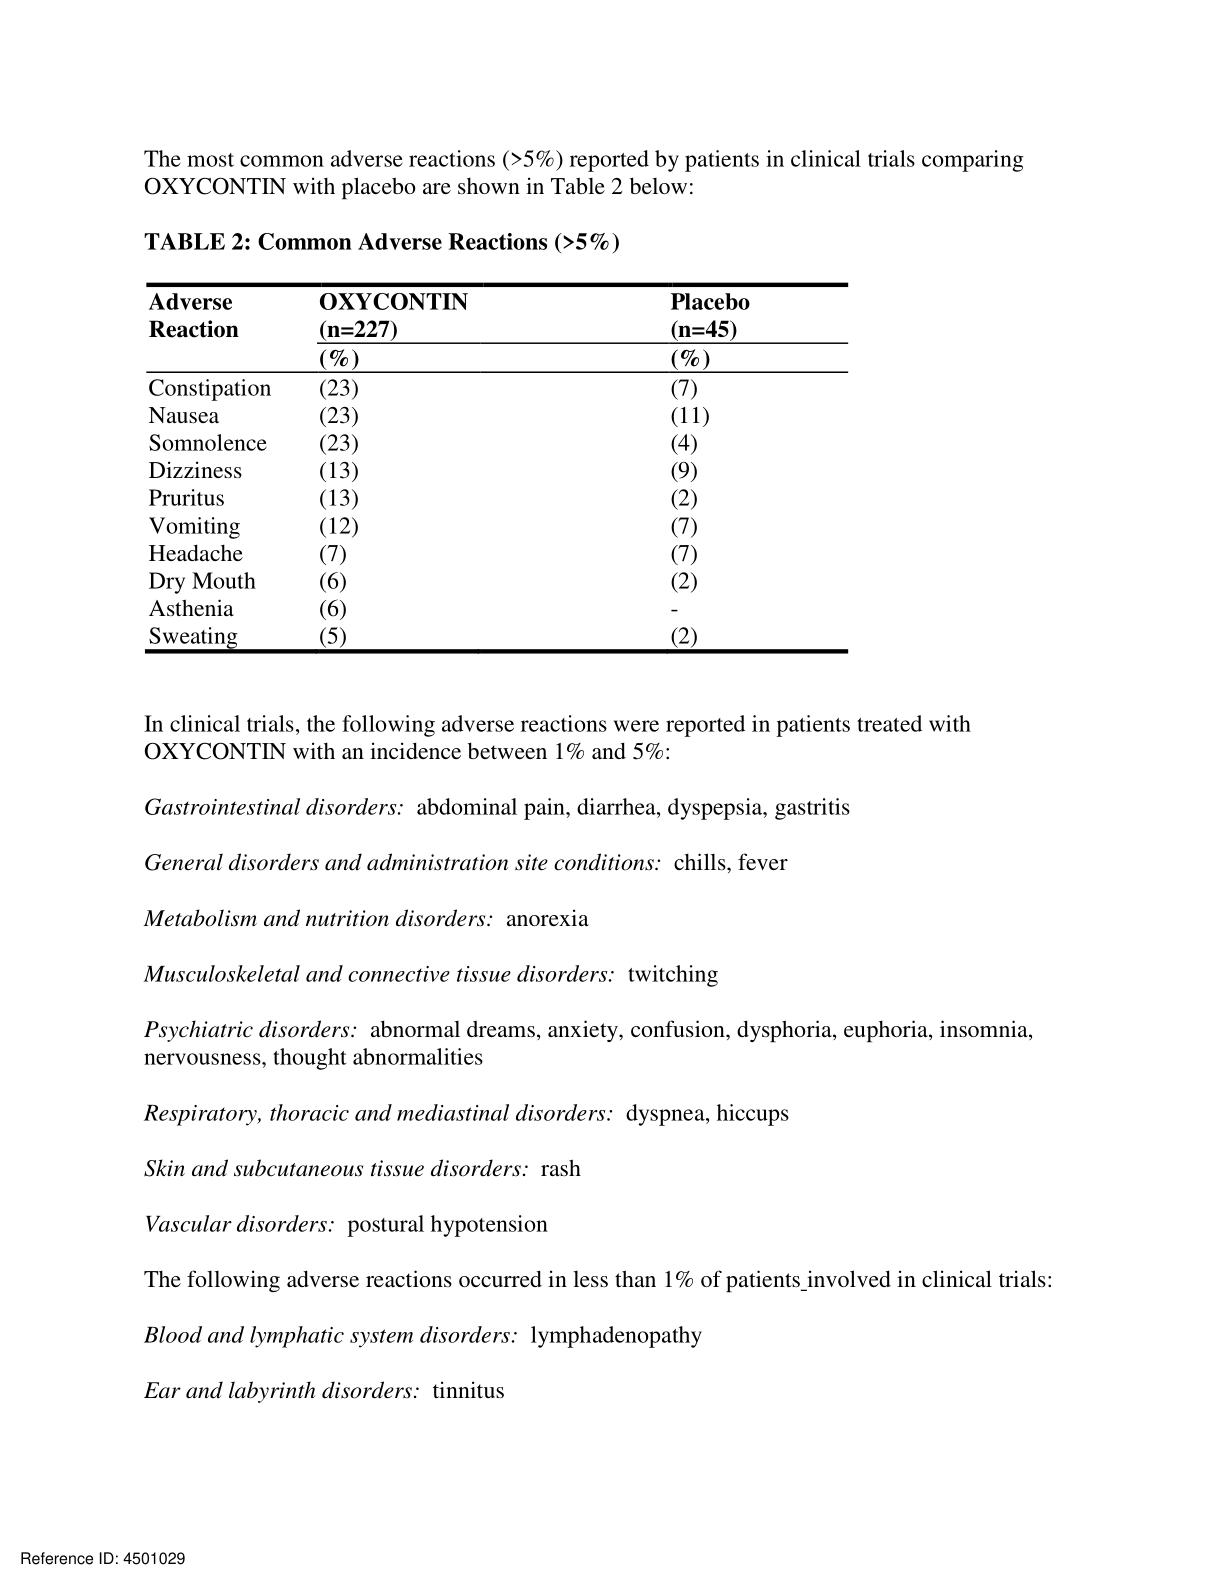partial_lined: (144, 282, 849, 656)
